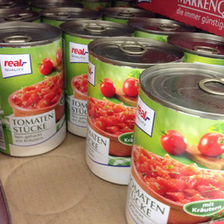tomato_sauce: (126, 62, 224, 221), (88, 36, 152, 186), (1, 17, 66, 159)
